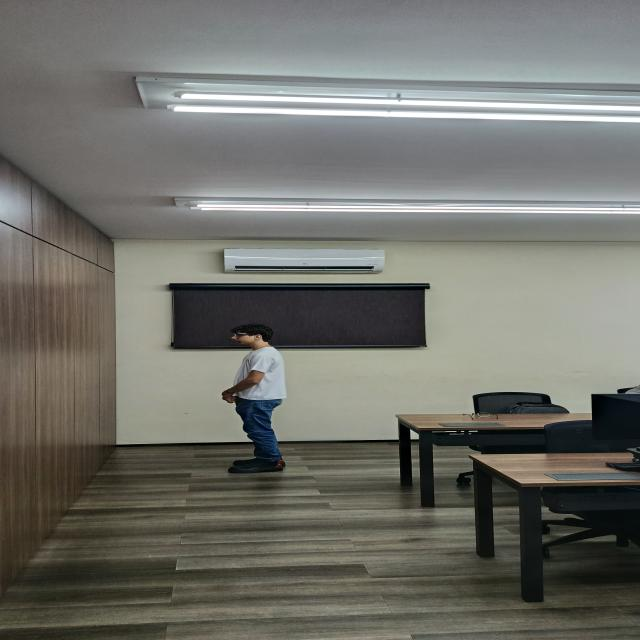oculos-epi: (233, 334, 254, 337)
